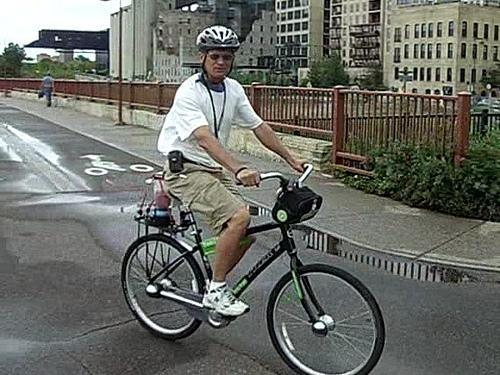bicycle: (121, 167, 387, 368)
